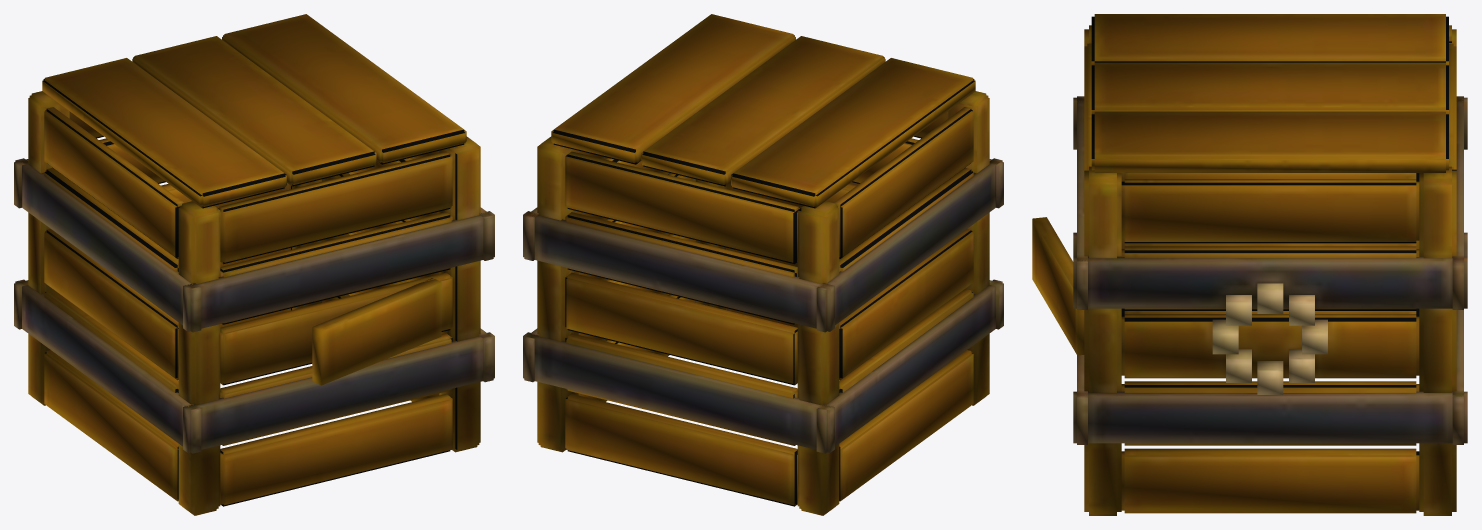
File: FloatingCrate.glb
3 renders of one model, left to right at view 1: azimuth 30°, elevation 25°; view 2: azimuth 150°, elevation 25°; view 3: azimuth 270°, elevation 25°, orthographic. The views are drawn at different scales.
Visible parts, largest first — view 1: FloatingCrate; view 2: FloatingCrate; view 3: FloatingCrate.
Part boxes in pixels (x1,y1,x2,y2): FloatingCrate: [14, 14, 494, 515]; FloatingCrate: [523, 14, 1003, 515]; FloatingCrate: [1032, 14, 1467, 515].
Size of the model in its own units: 1.1 by 1.05 by 1.17.
1 material, 1 textured.
